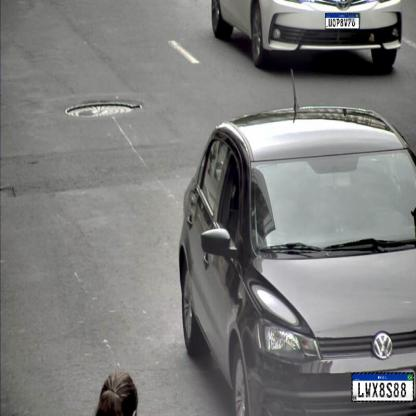PlacaM: (351, 372, 414, 402), (325, 13, 359, 29)
